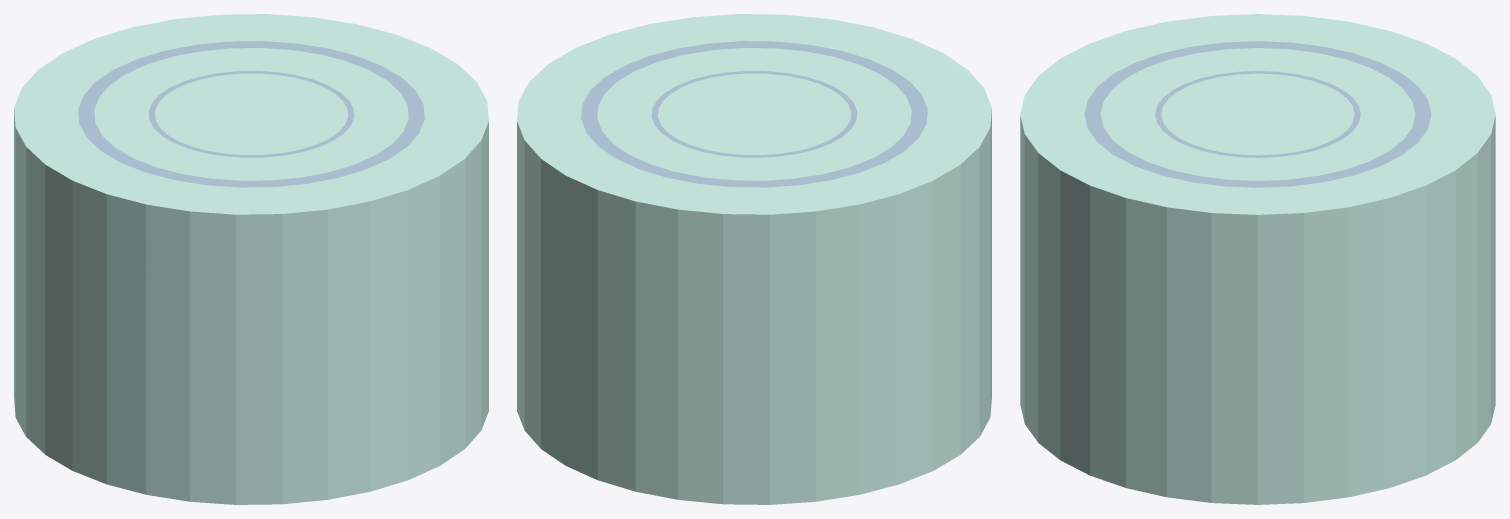
The model's file is Platform_003.fbx.
3 renders of one model, left to right at view 1: azimuth 30°, elevation 25°; view 2: azimuth 150°, elevation 25°; view 3: azimuth 270°, elevation 25°, orthographic.
Visible parts, largest first — view 1: Cylinder, Cylinder.001, Cylinder.002; view 2: Cylinder, Cylinder.001, Cylinder.002; view 3: Cylinder, Cylinder.001, Cylinder.002.
Part boxes in pixels (left/top/right/bottom): Cylinder: left=14, top=14, right=488, bottom=504; Cylinder.001: left=86, top=44, right=416, bottom=183; Cylinder.002: left=148, top=71, right=354, bottom=157; Cylinder: left=517, top=14, right=991, bottom=504; Cylinder.001: left=589, top=44, right=919, bottom=183; Cylinder.002: left=651, top=71, right=857, bottom=157; Cylinder: left=1020, top=14, right=1495, bottom=504; Cylinder.001: left=1093, top=44, right=1422, bottom=184; Cylinder.002: left=1155, top=71, right=1360, bottom=157.
Size of the model in its own units: 200 by 135 by 200.
